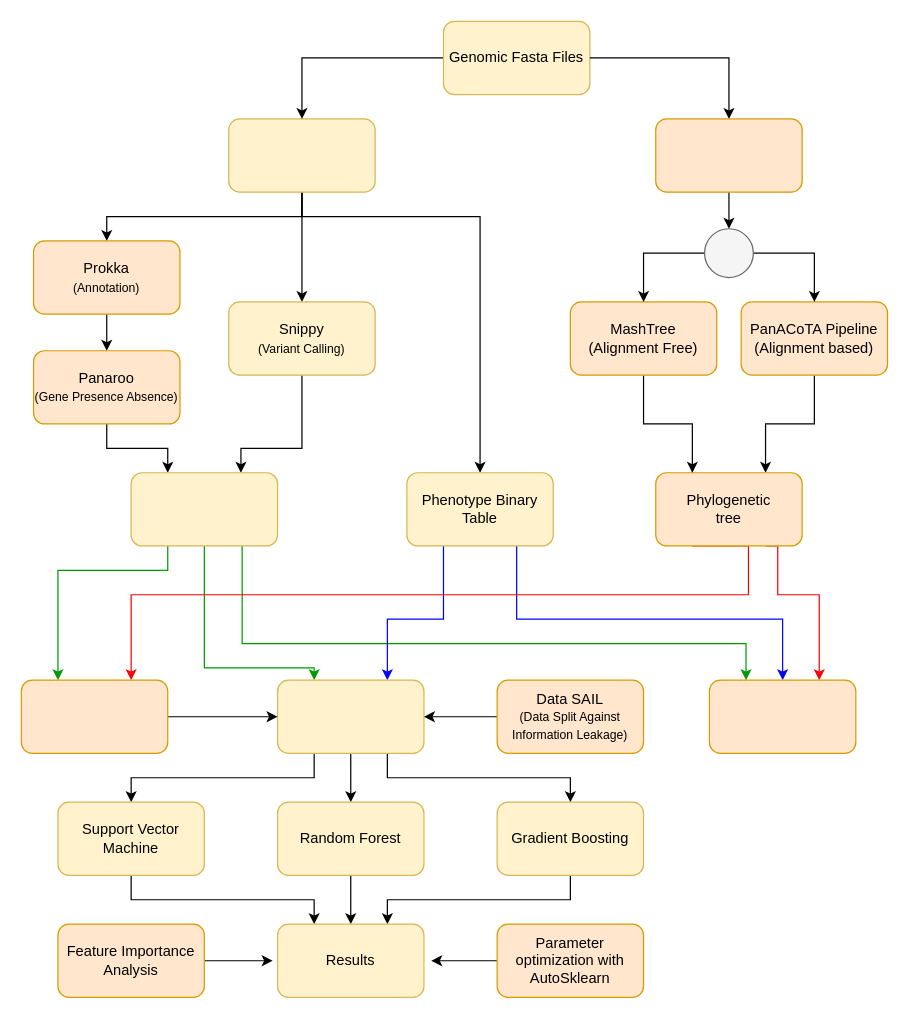
This 909x1019 diagram has some shape labels left out. Each missing label, with the box of its shape:
Binary Tables: (228, 118, 375, 192)
Genotype Binary Table: (130, 472, 278, 546)
GWAS: (708, 679, 856, 753)
Machine Learning: (276, 679, 424, 753)
OR: (703, 228, 753, 278)
Phlyogeny: (655, 118, 802, 192)
PRPS (Phylogeny Related Parallelism Score): (20, 679, 168, 753)
